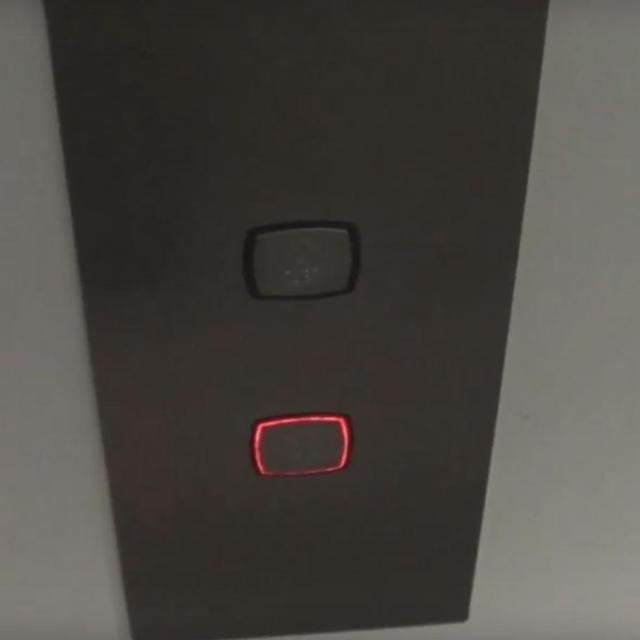blur: (240, 221, 360, 301), (249, 413, 354, 478)
